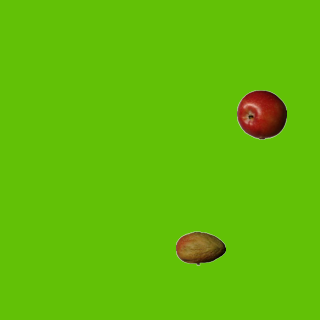Apple Braeburn: (236, 89, 286, 139)
Papaya: (175, 223, 225, 273)
